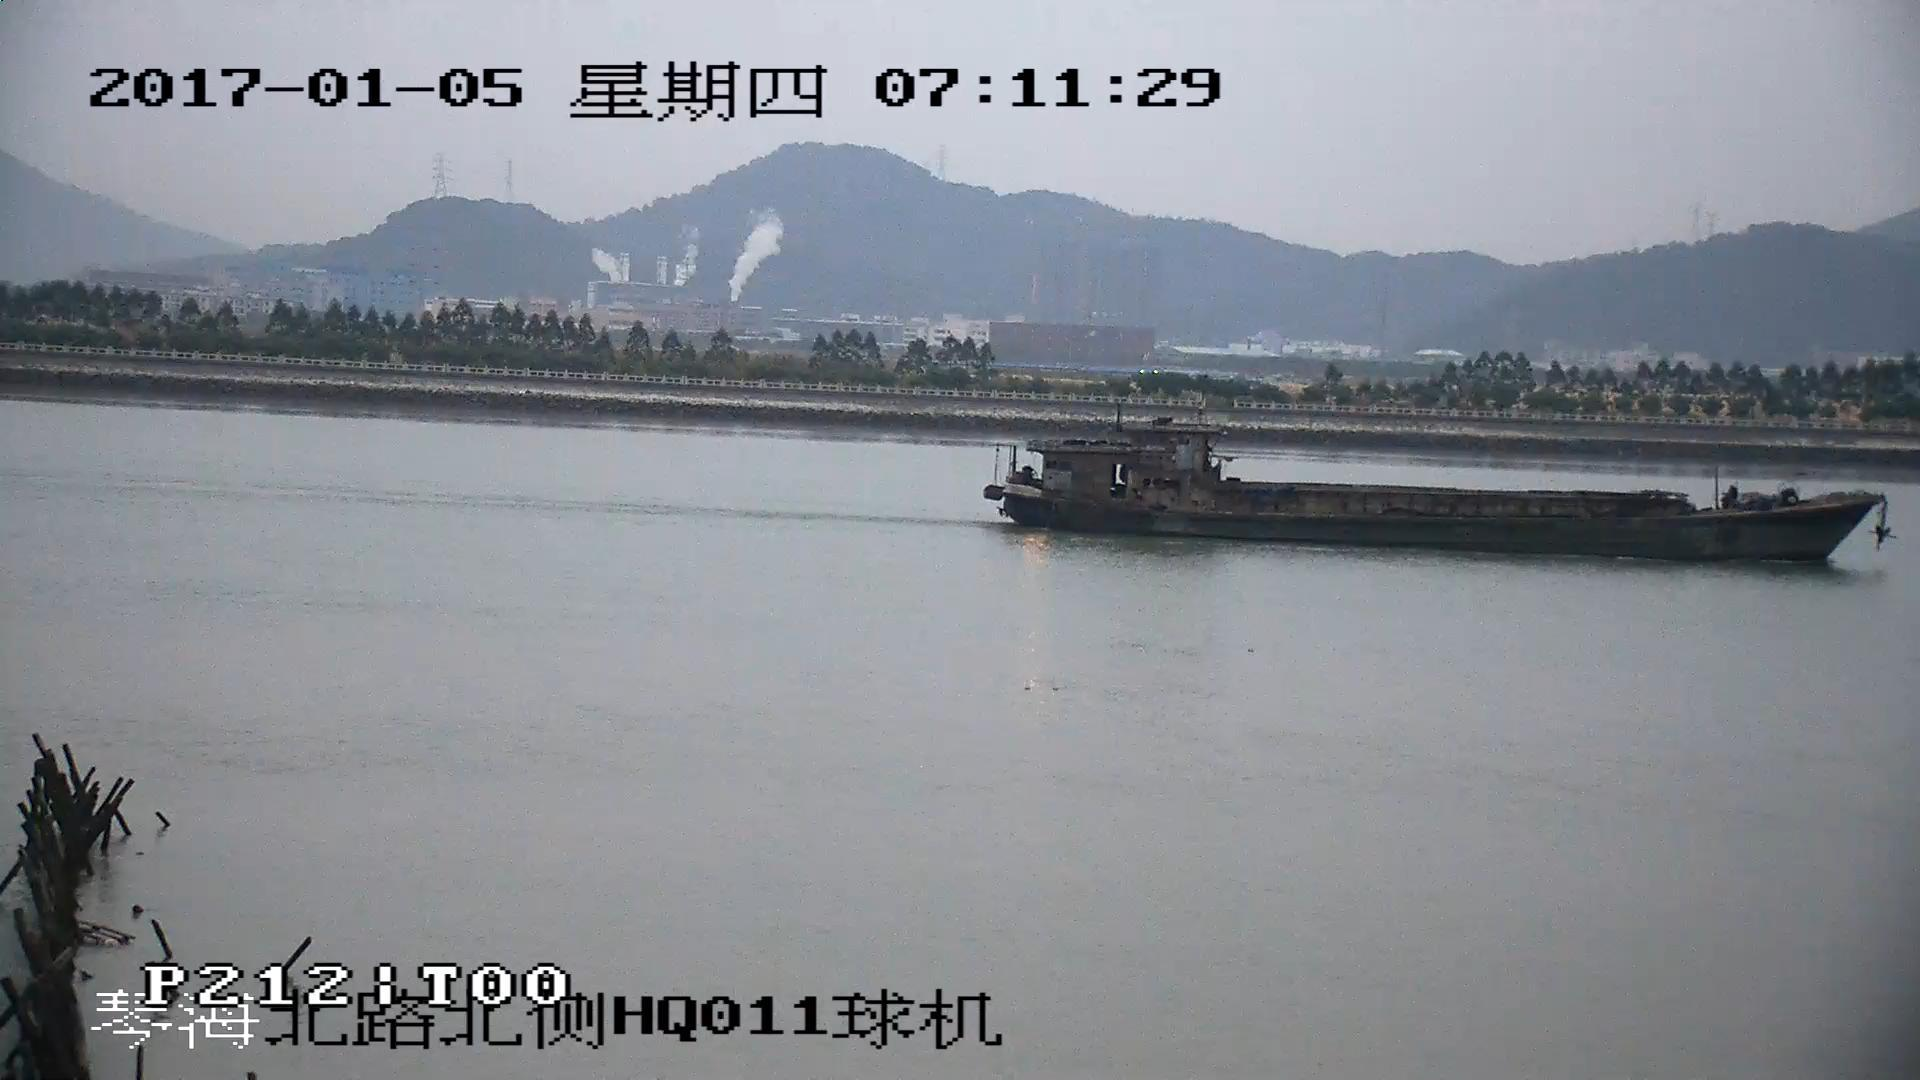Ship: (982, 415, 1891, 560)
